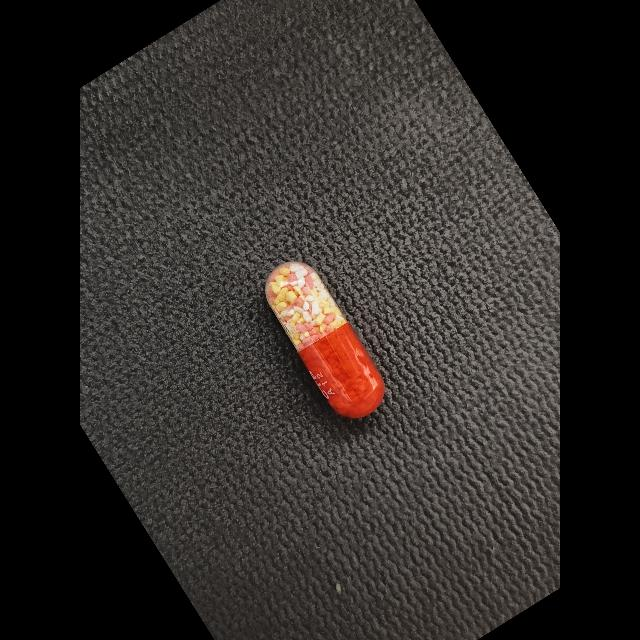Intact Capsule: (265, 261, 385, 419)
